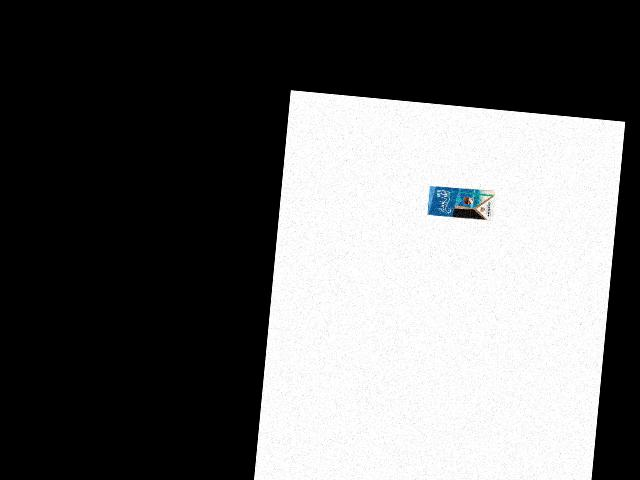chocolate: (425, 183, 497, 223)
